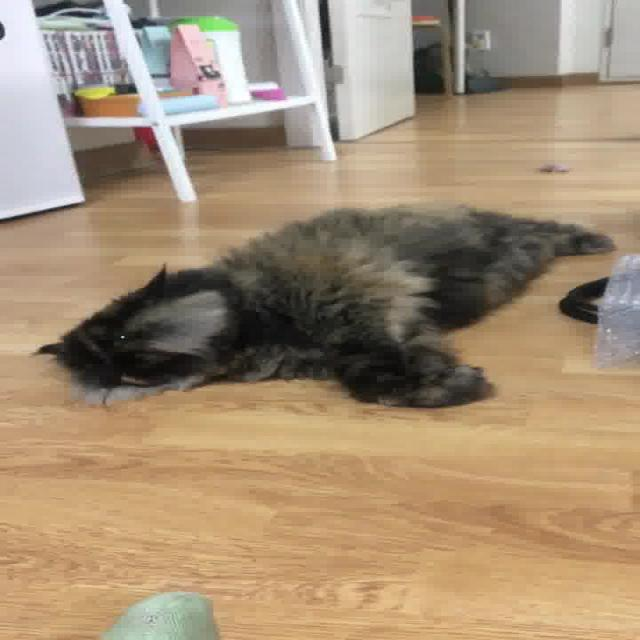cat: (16, 200, 640, 410)
